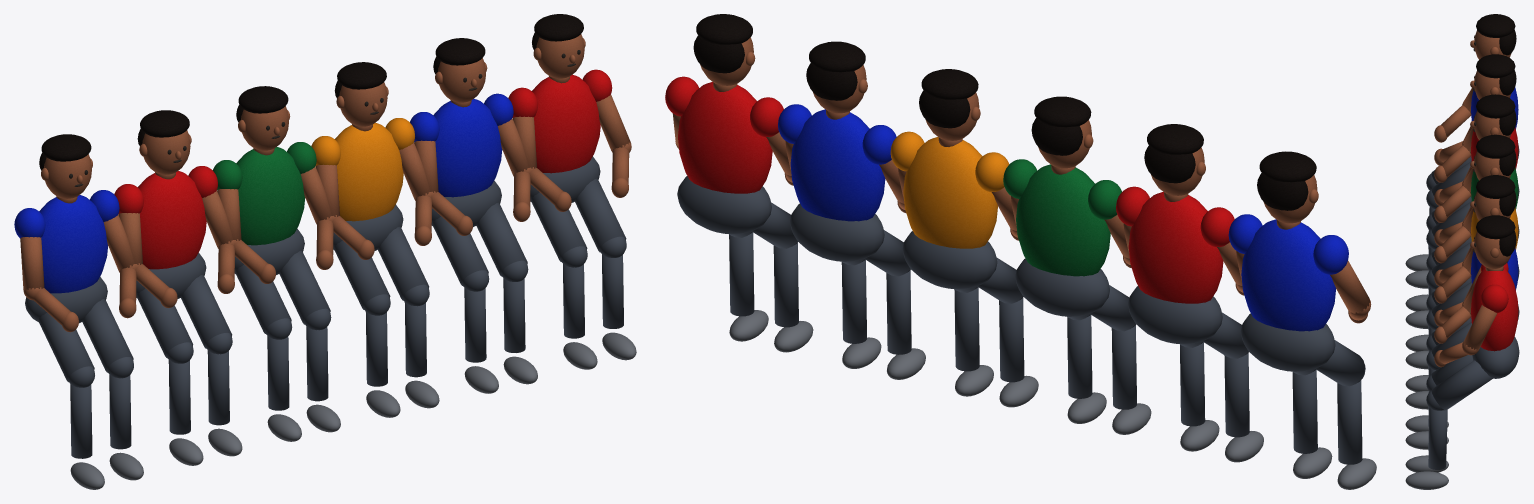
The model's file is espectadores.fbx.
3 renders of one model, left to right at view 1: azimuth 30°, elevation 25°; view 2: azimuth 150°, elevation 25°; view 3: azimuth 270°, elevation 25°, orthographic. The views are drawn at different scales.
Parts seen in each view (by area): view 1: Espectador_01_Torso, Espectador_03_Torso, Espectador_05_Torso, Espectador_02_Torso, Espectador_04_Torso, Espectador_06_Torso, Espectador_03_Muslo_Derecho, Espectador_05_Muslo_Derecho, Espectador_01_Muslo_Derecho, Espectador_06_Muslo_Derecho, Espectador_02_Muslo_Derecho, Espectador_04_Muslo_Derecho (+67 smaller); view 2: Espectador_03_Torso, Espectador_05_Torso, Espectador_01_Torso, Espectador_04_Torso, Espectador_06_Torso, Espectador_02_Torso, Espectador_04_Cadera, Espectador_02_Cadera, Espectador_06_Cadera, Espectador_05_Cadera, Espectador_01_Cadera, Espectador_03_Cadera (+61 smaller); view 3: Espectador_06_Torso, Espectador_06_Muslo_Derecho, Espectador_06_Cadera, Espectador_06_Pierna_Derecho, Espectador_06_Brazo_Derecho, Espectador_06_Cabeza, Espectador_03_Cabello_Superior, Espectador_02_Cabello_Superior, Espectador_04_Cabello_Superior, Espectador_06_Cabello_Superior, Espectador_01_Cabello_Superior, Espectador_05_Cabello_Superior (+57 smaller).
Boxes of the visible parts, x1,y1,x2,y2 form: Espectador_01_Torso: (39,195,107,293); Espectador_03_Torso: (236,147,305,245); Espectador_05_Torso: (433,99,502,197); Espectador_02_Torso: (138,171,206,269); Espectador_04_Torso: (335,123,403,221); Espectador_06_Torso: (532,74,600,173); Espectador_03_Muslo_Derecho: (279,250,330,324); Espectador_05_Muslo_Derecho: (476,202,527,276); Espectador_01_Muslo_Derecho: (82,298,133,372); Espectador_06_Muslo_Derecho: (575,178,626,252); Espectador_02_Muslo_Derecho: (181,274,232,348); Espectador_04_Muslo_Derecho: (378,226,429,300); Espectador_03_Torso: (1016,164,1110,276); Espectador_05_Torso: (790,109,885,221); Espectador_01_Torso: (1241,219,1336,331); Espectador_04_Torso: (903,137,997,248); Espectador_06_Torso: (678,82,772,193); Espectador_02_Torso: (1128,192,1223,303); Espectador_04_Cadera: (902,231,997,289); Espectador_02_Cadera: (1128,286,1222,344); Espectador_06_Cadera: (677,176,771,234); Espectador_05_Cadera: (790,203,884,261); Espectador_01_Cadera: (1240,313,1335,371); Espectador_03_Cadera: (1015,258,1109,316); Espectador_06_Torso: (1471,267,1518,351); Espectador_06_Muslo_Derecho: (1431,360,1492,410); Espectador_06_Cadera: (1472,337,1519,378); Espectador_06_Pierna_Derecho: (1428,408,1447,469); Espectador_06_Brazo_Derecho: (1463,305,1497,350); Espectador_06_Cabeza: (1474,231,1510,268); Espectador_03_Cabello_Superior: (1476,94,1515,118); Espectador_02_Cabello_Superior: (1476,54,1515,78); Espectador_04_Cabello_Superior: (1476,134,1515,158); Espectador_06_Cabello_Superior: (1476,215,1515,239); Espectador_01_Cabello_Superior: (1476,14,1515,37); Espectador_05_Cabello_Superior: (1476,175,1515,198).
Size of the model in its own units: 295 by 145 by 57.5.
